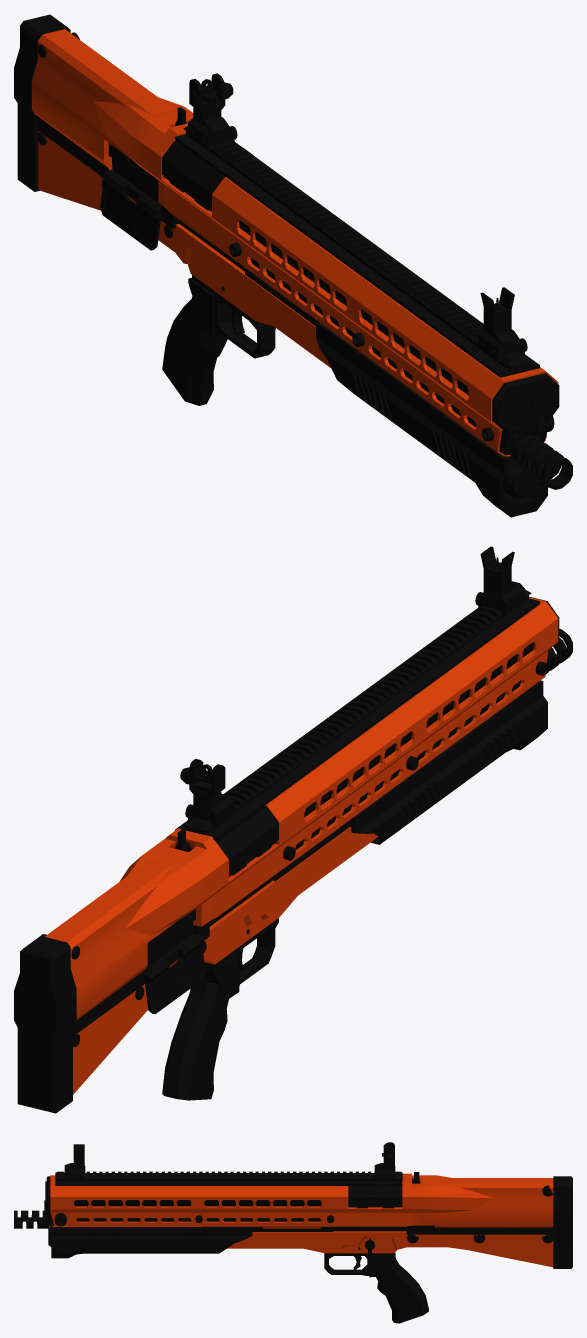
File: uts15_w.fbx
The picture shows the model from 3 angles, top to bottom: view 1: azimuth 30°, elevation 25°; view 2: azimuth 150°, elevation 25°; view 3: azimuth 270°, elevation 25°; orthographic projection. The views are drawn at different scales.
Parts seen in each view (by area): view 1: polySurface3; view 2: polySurface3; view 3: polySurface3.
Part boxes in pixels (left/top/right/bottom): polySurface3: left=14, top=14, right=572, bottom=517; polySurface3: left=14, top=546, right=572, bottom=1113; polySurface3: left=14, top=1142, right=572, bottom=1323.
Size of the model in its own units: 3.63 by 16.83 by 48.4.
